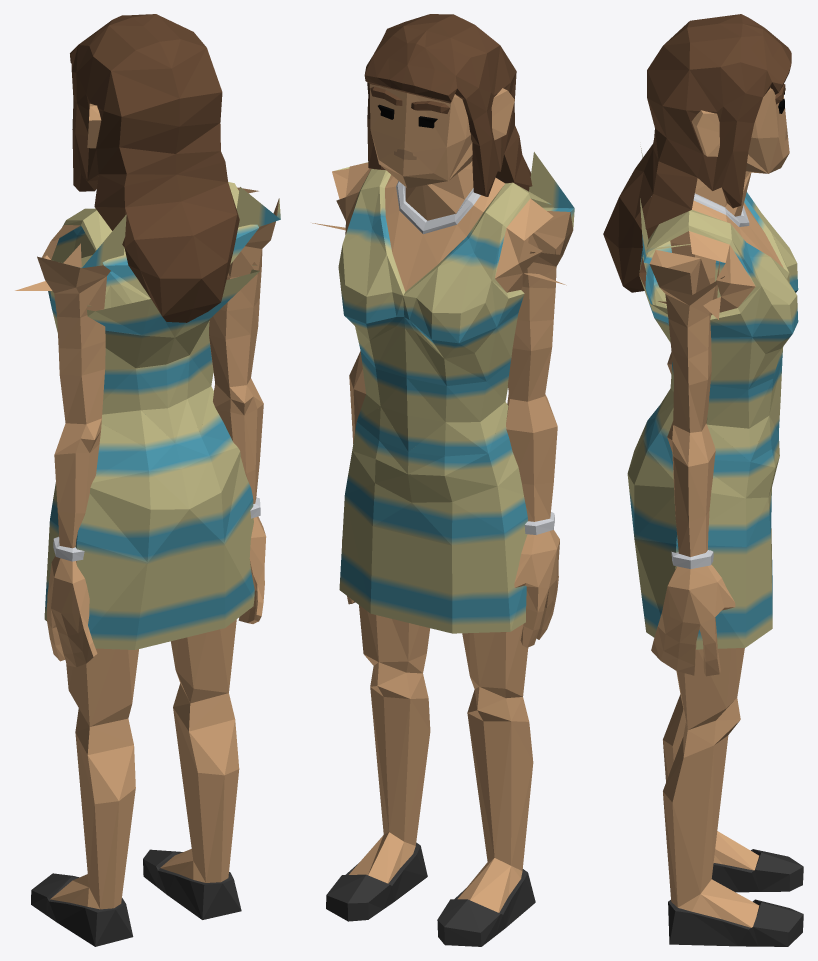
File: Demon_Mother_02_stand.obj
The picture shows the model from 3 angles, left to right: view 1: azimuth 30°, elevation 25°; view 2: azimuth 150°, elevation 25°; view 3: azimuth 270°, elevation 25°; orthographic projection.
Visible parts, largest first — view 1: Demon_Mother_02_stand; view 2: Demon_Mother_02_stand; view 3: Demon_Mother_02_stand.
Part boxes in pixels (box(x1,y1,x2,y2)): Demon_Mother_02_stand: box(15, 14, 280, 946); Demon_Mother_02_stand: box(312, 14, 574, 946); Demon_Mother_02_stand: box(603, 14, 803, 946).
Bounding box in the file's own units: 0.5575 × 1.82 × 0.3732.
Materials: 1 (1 with a texture image).
